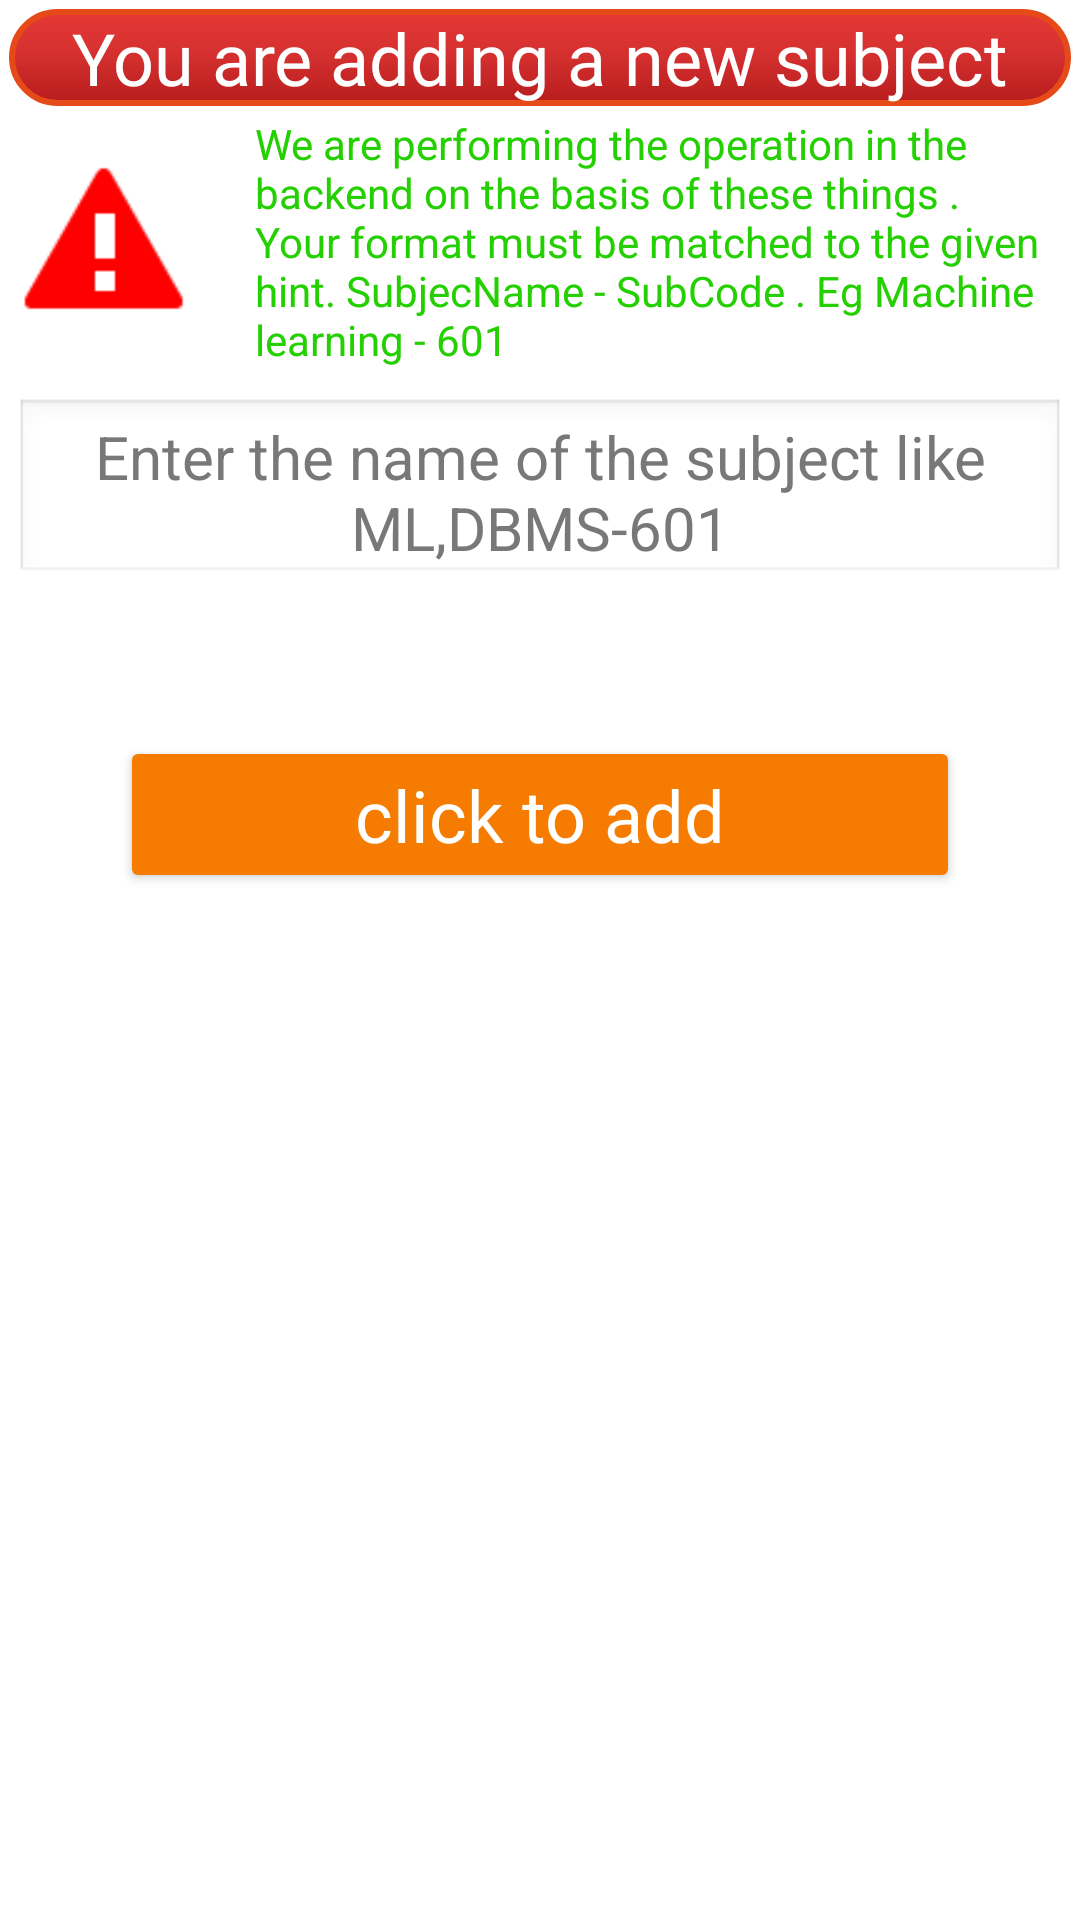

Icon bounding boxes for this 1080×1920 phone screenshot, format bbox=(x1, y1, x2, y2):
warning: bbox=(24, 167, 184, 310)
